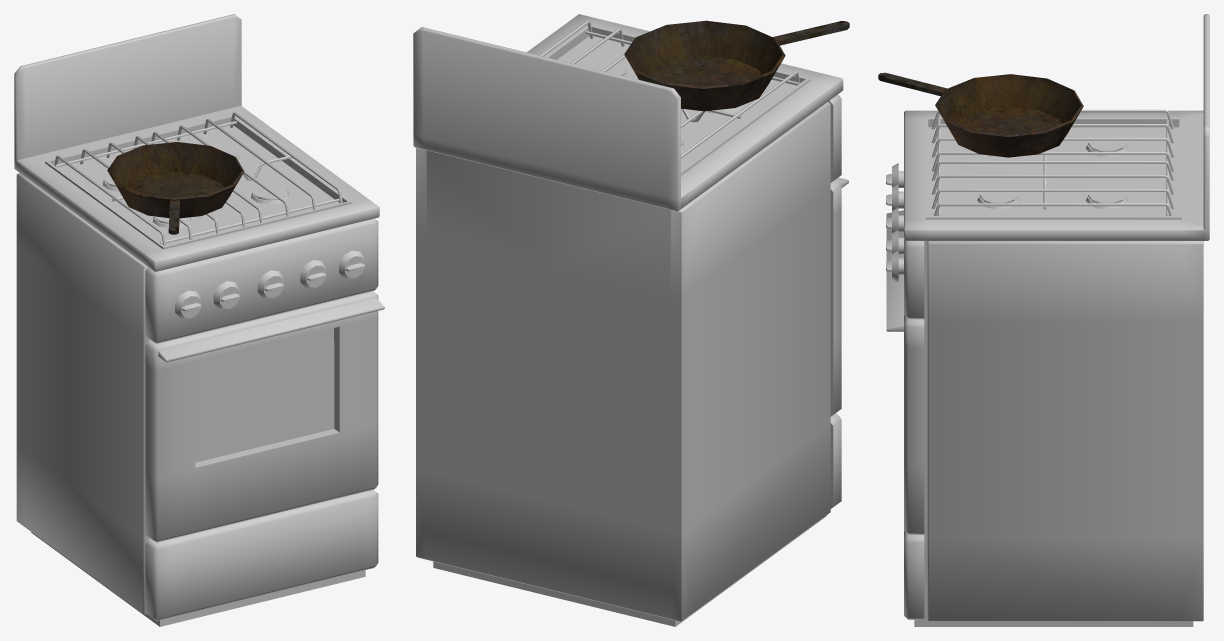
The model's file is uploads_files_6295904_gas_stove.fbx.
3 renders of one model, left to right at view 1: azimuth 30°, elevation 25°; view 2: azimuth 150°, elevation 25°; view 3: azimuth 270°, elevation 25°, orthographic. The views are drawn at different scales.
Parts seen in each view (by area): view 1: gas_stove, pan; view 2: gas_stove, pan; view 3: gas_stove, pan.
Boxes of the visible parts, x1,y1,x2,y2 form: gas_stove: (14,14,384,626); pan: (107,142,244,234); gas_stove: (413,14,848,626); pan: (624,20,849,111); gas_stove: (886,14,1209,626); pan: (878,72,1083,157).
Size of the model in its own units: 50.54 by 98.93 by 59.23.
